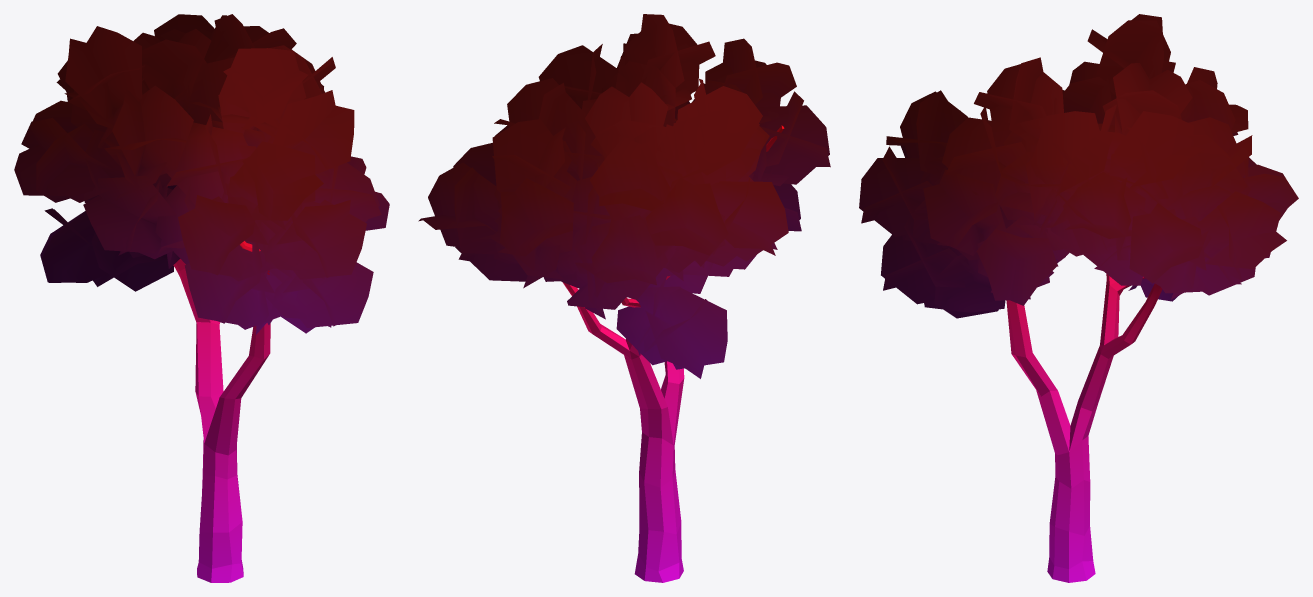
File: synty-tree-generic-01.gltf
3 renders of one model, left to right at view 1: azimuth 30°, elevation 25°; view 2: azimuth 150°, elevation 25°; view 3: azimuth 270°, elevation 25°, orthographic. The views are drawn at different scales.
Visible parts, largest first — view 1: SM_Tree_Generic_01; view 2: SM_Tree_Generic_01; view 3: SM_Tree_Generic_01.
Boxes of the visible parts, x1,y1,x2,y2 form: SM_Tree_Generic_01: [14, 14, 389, 582]; SM_Tree_Generic_01: [418, 14, 830, 582]; SM_Tree_Generic_01: [859, 14, 1298, 582].
Size of the model in its own units: 3.43 by 5.6 by 4.23.
